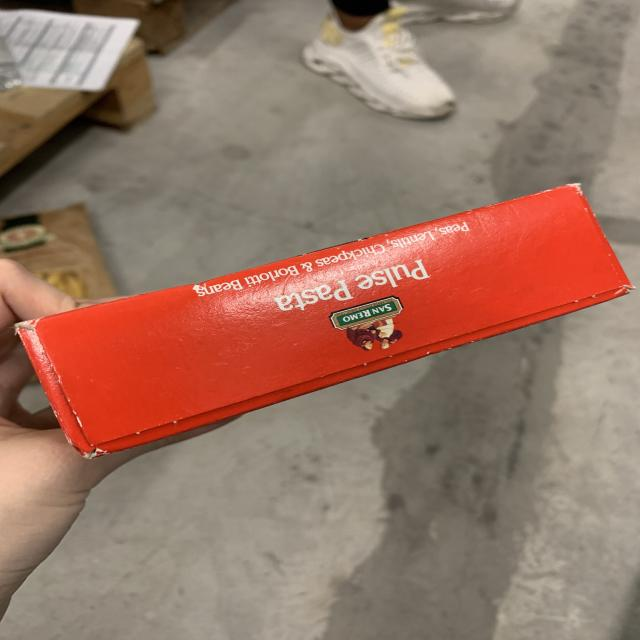object_name: (11, 254, 640, 429)
